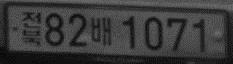0: (143, 15, 164, 51)
1: (190, 17, 207, 55), (121, 14, 136, 53)
2: (67, 11, 89, 48)
7: (166, 16, 187, 52)
8: (43, 11, 64, 45)
배: (89, 15, 112, 47)
전북_V: (20, 9, 42, 48)
